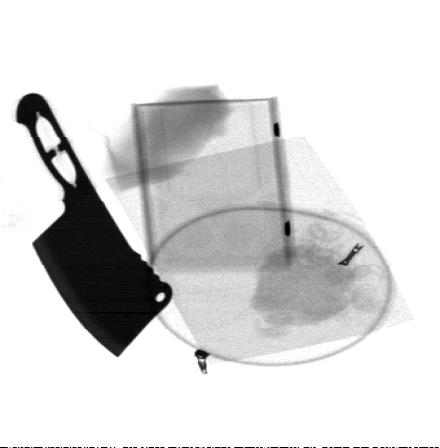Knife: (14, 92, 174, 360)
